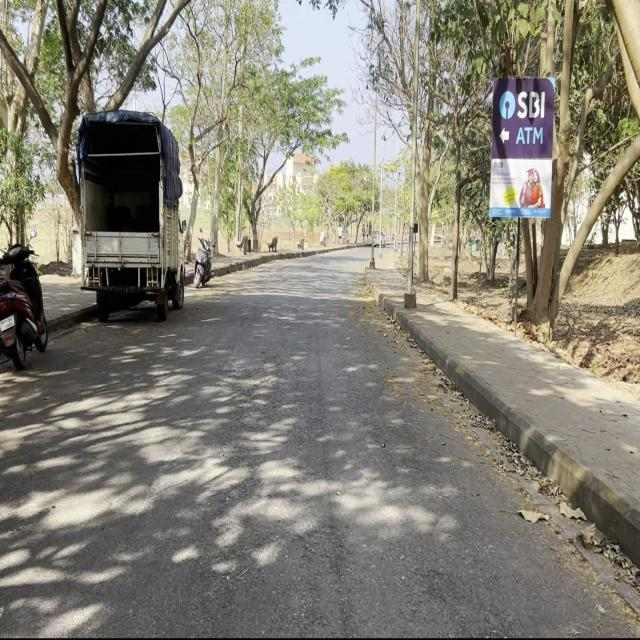Object: (71, 103, 189, 321), (5, 234, 54, 364)
Road: (2, 253, 634, 632)
